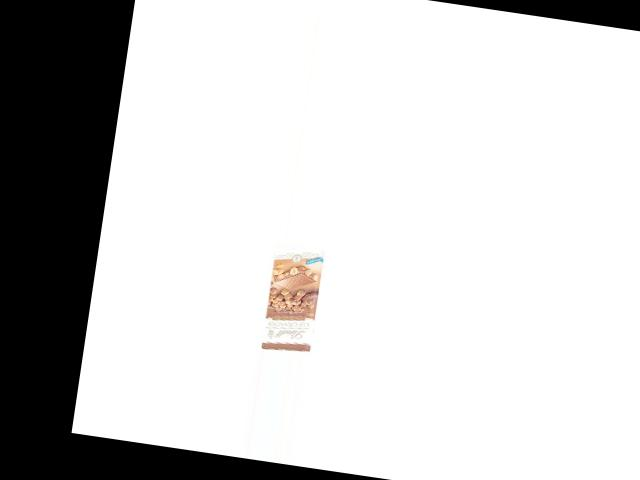chocolate: (253, 247, 327, 352)
